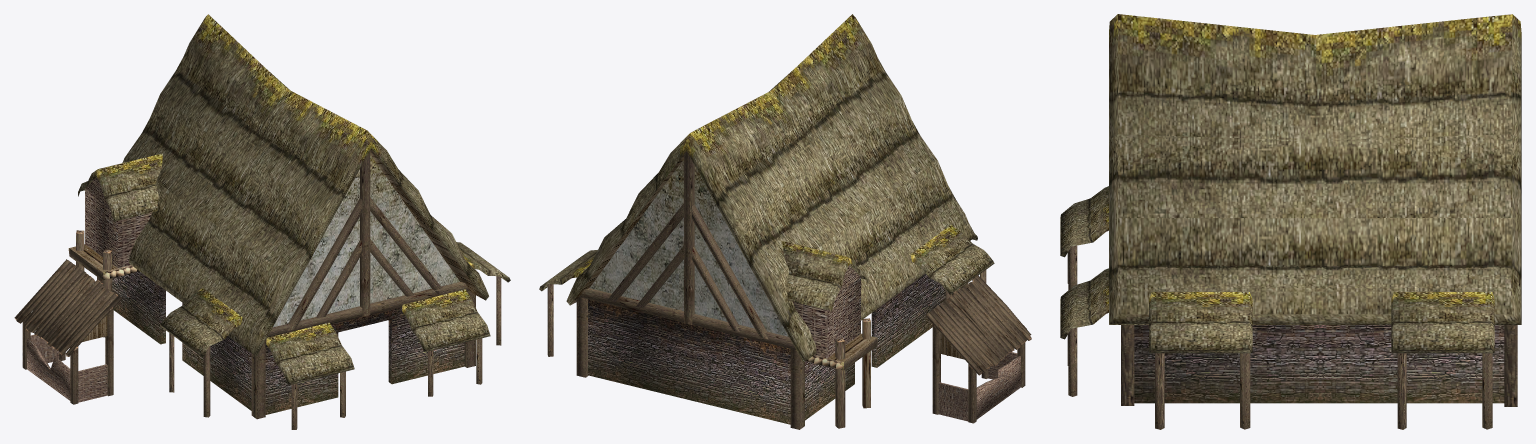
Rendered from celt_market.dae.
3 renders of one model, left to right at view 1: azimuth 30°, elevation 25°; view 2: azimuth 150°, elevation 25°; view 3: azimuth 270°, elevation 25°, orthographic. The views are drawn at different scales.
Visible parts, largest first — view 1: default06; view 2: default06; view 3: default06.
Part boxes in pixels (x1,y1,x2,y2): default06: (14, 14, 510, 429); default06: (539, 14, 1031, 429); default06: (1060, 14, 1521, 429).
Size of the model in its own units: 25.64 by 20.8 by 16.27.
